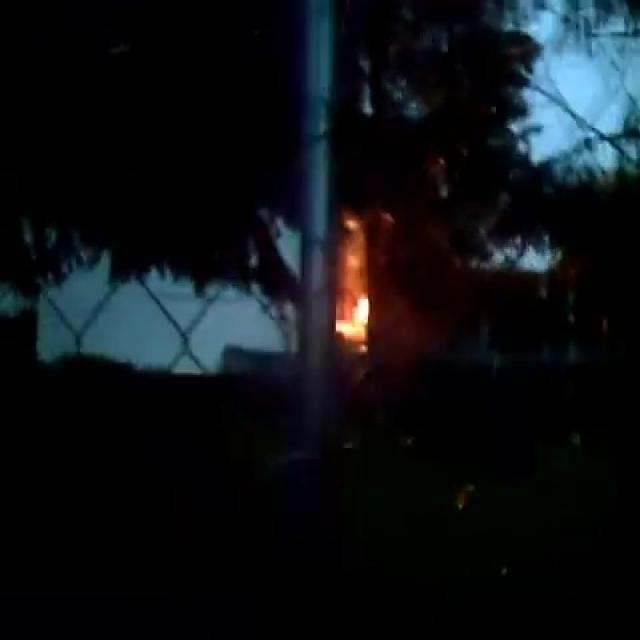Fire: (334, 274, 374, 350)
